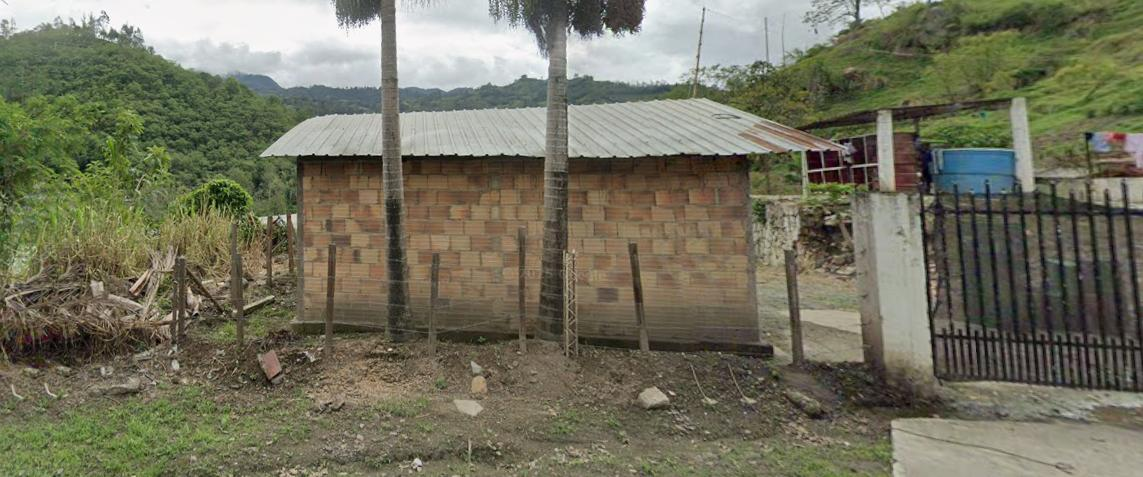casa: (566, 98, 843, 346), (401, 106, 562, 335), (262, 114, 391, 333)
